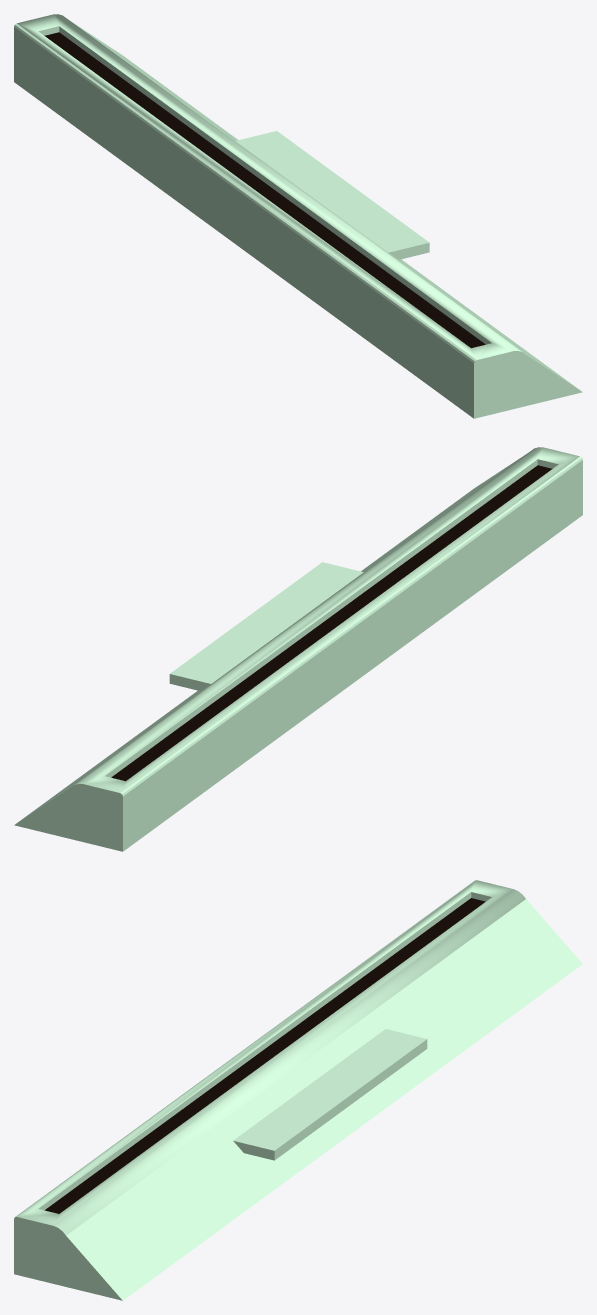
Rendered from benchround.obj.
3 views of the same model, one above another, from view 1: azimuth 30°, elevation 25°; view 2: azimuth 150°, elevation 25°; view 3: azimuth 330°, elevation 25° (orthographic).
Parts seen in each view (by area): view 1: Cube.001; view 2: Cube.001; view 3: Cube.001.
Boxes of the visible parts, x1,y1,x2,y2 form: Cube.001: (14,14,582,418); Cube.001: (14,447,582,851); Cube.001: (14,880,582,1300).
Bounding box in the file's own units: 1.15 × 0.5881 × 8.45.
